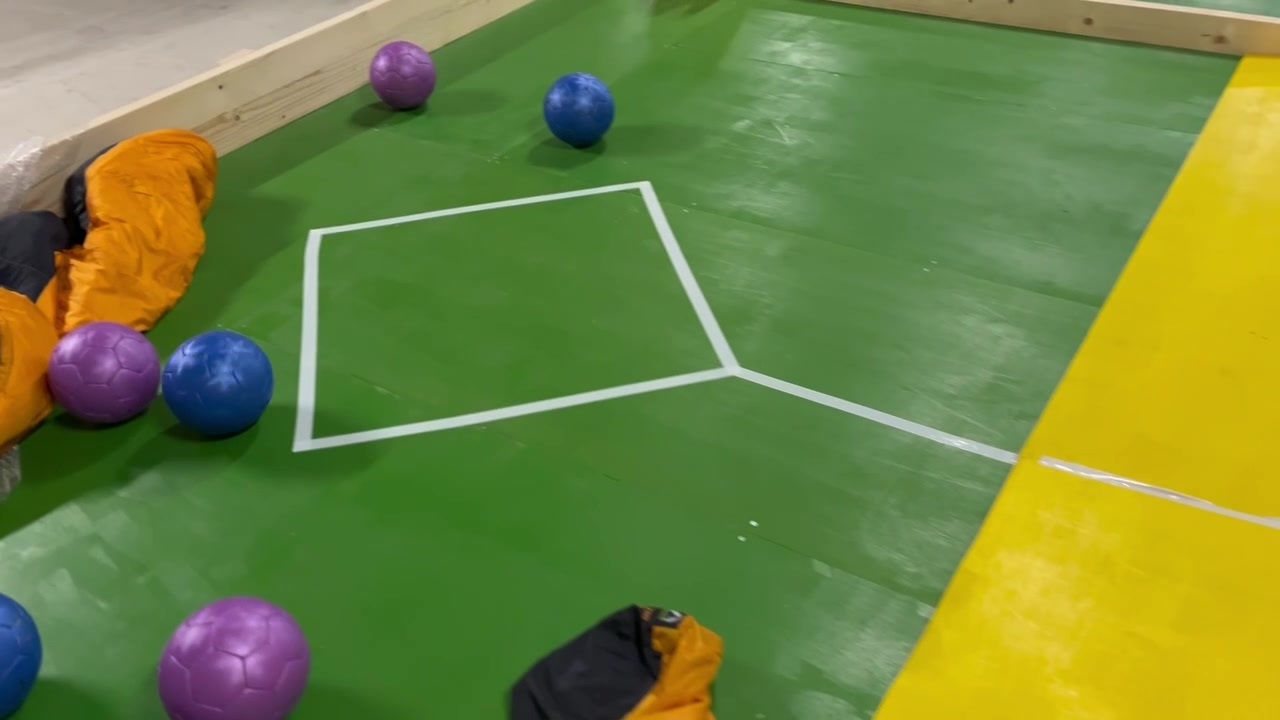blue: (155, 332, 282, 437), (541, 65, 622, 150), (0, 585, 45, 719)
